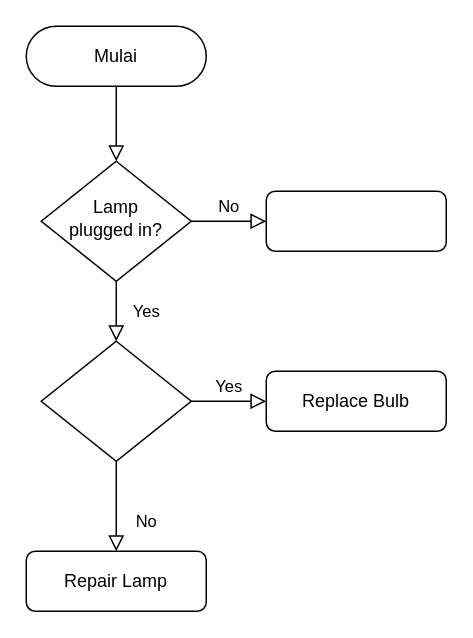
Image size: 473x638. Some labels were removed from this diagram. The box of each missing label's shape, as (x1, y1, x2, y2) in pixels:
Bulb burned out?: (40, 340, 191, 461)
Plug in lamp: (265, 190, 446, 251)
